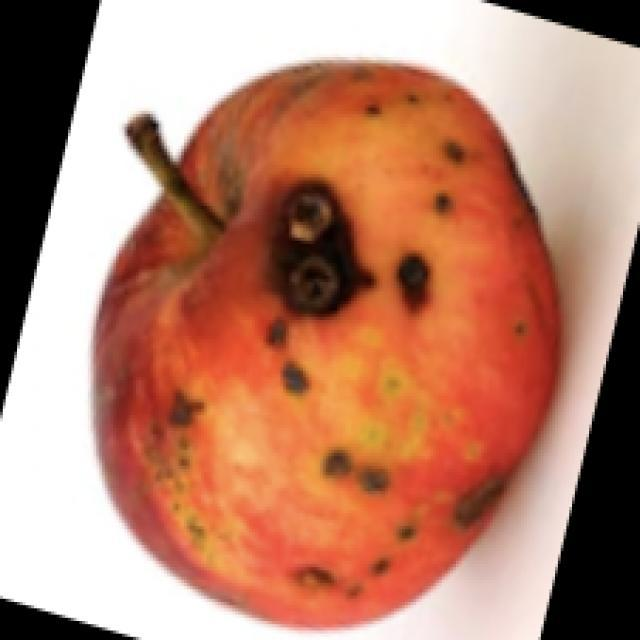Rotten: (90, 66, 571, 640)
